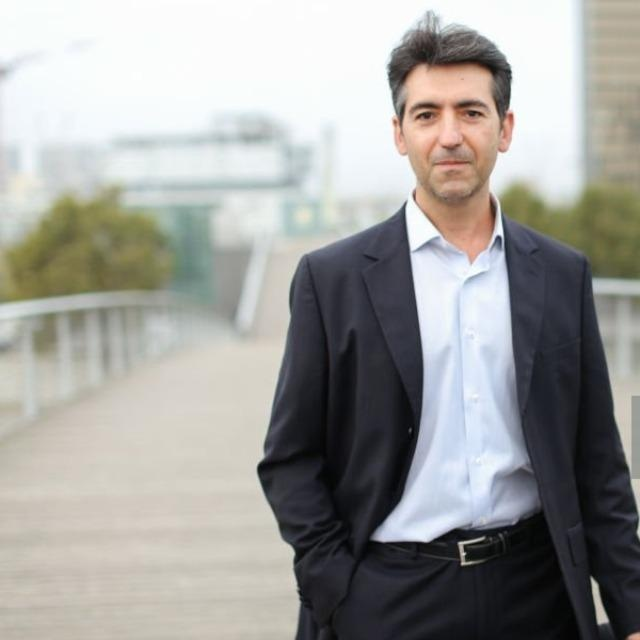Sin_Casco_Mascarrilla: (385, 24, 516, 200)
Sin_Chaleco: (284, 211, 599, 566)
